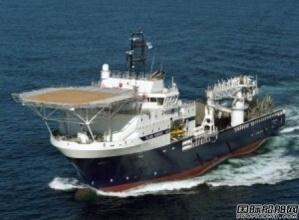otherboat: (13, 38, 287, 188)
